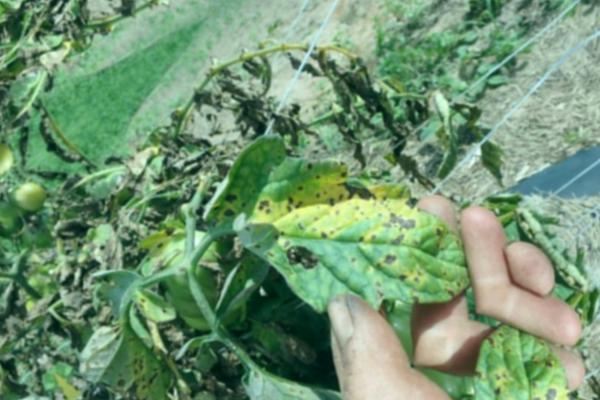Tomato Septoria leaf spot: (185, 75, 487, 387), (60, 294, 199, 400), (223, 343, 340, 400)
